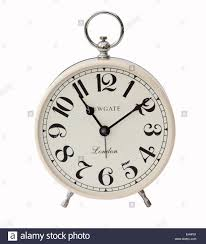alarm_clock: (37, 10, 176, 207), (37, 18, 176, 207)
